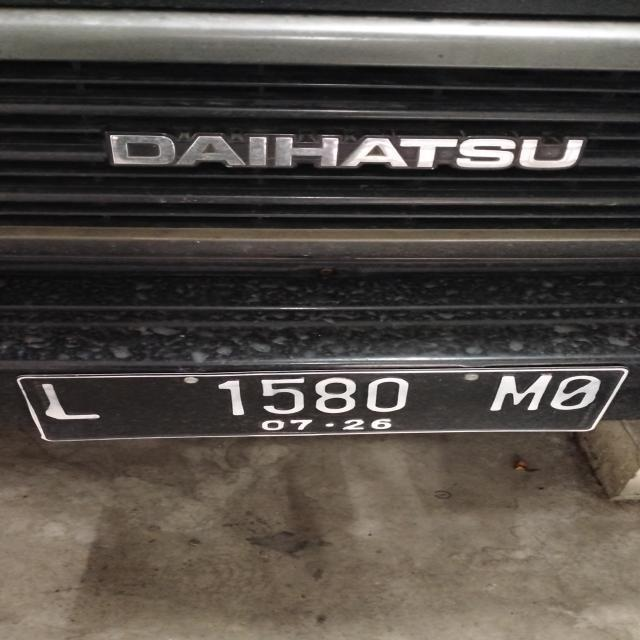0: (364, 376, 408, 418)
1: (208, 376, 252, 418)
5: (256, 377, 310, 415)
8: (314, 373, 361, 418)
L: (30, 380, 110, 422)
M: (490, 372, 550, 422)
O: (556, 373, 602, 416)
